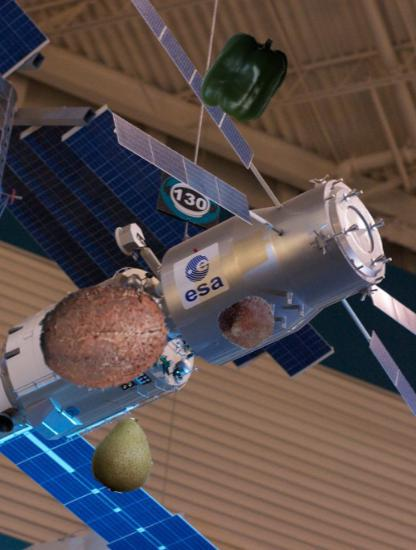Cocos: (38, 269, 173, 404)
Pear: (86, 417, 162, 493)
Pepper: (200, 32, 290, 122)
Salak: (220, 296, 277, 353)
